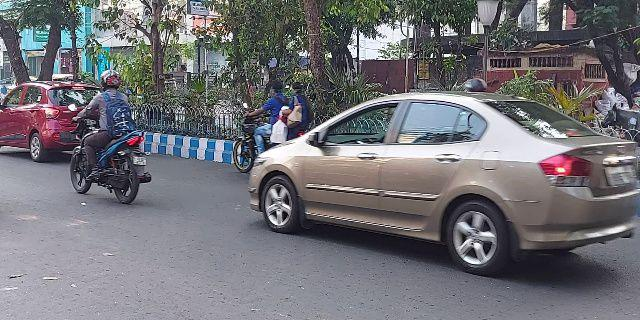Car: (243, 88, 638, 280), (1, 78, 98, 164)
Motorbike: (68, 70, 153, 208), (227, 81, 308, 175)
